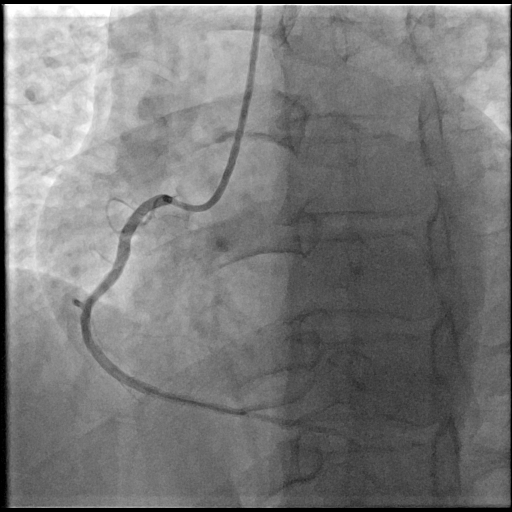RCA: (80, 194, 247, 415)
catherter: (172, 6, 262, 212)
